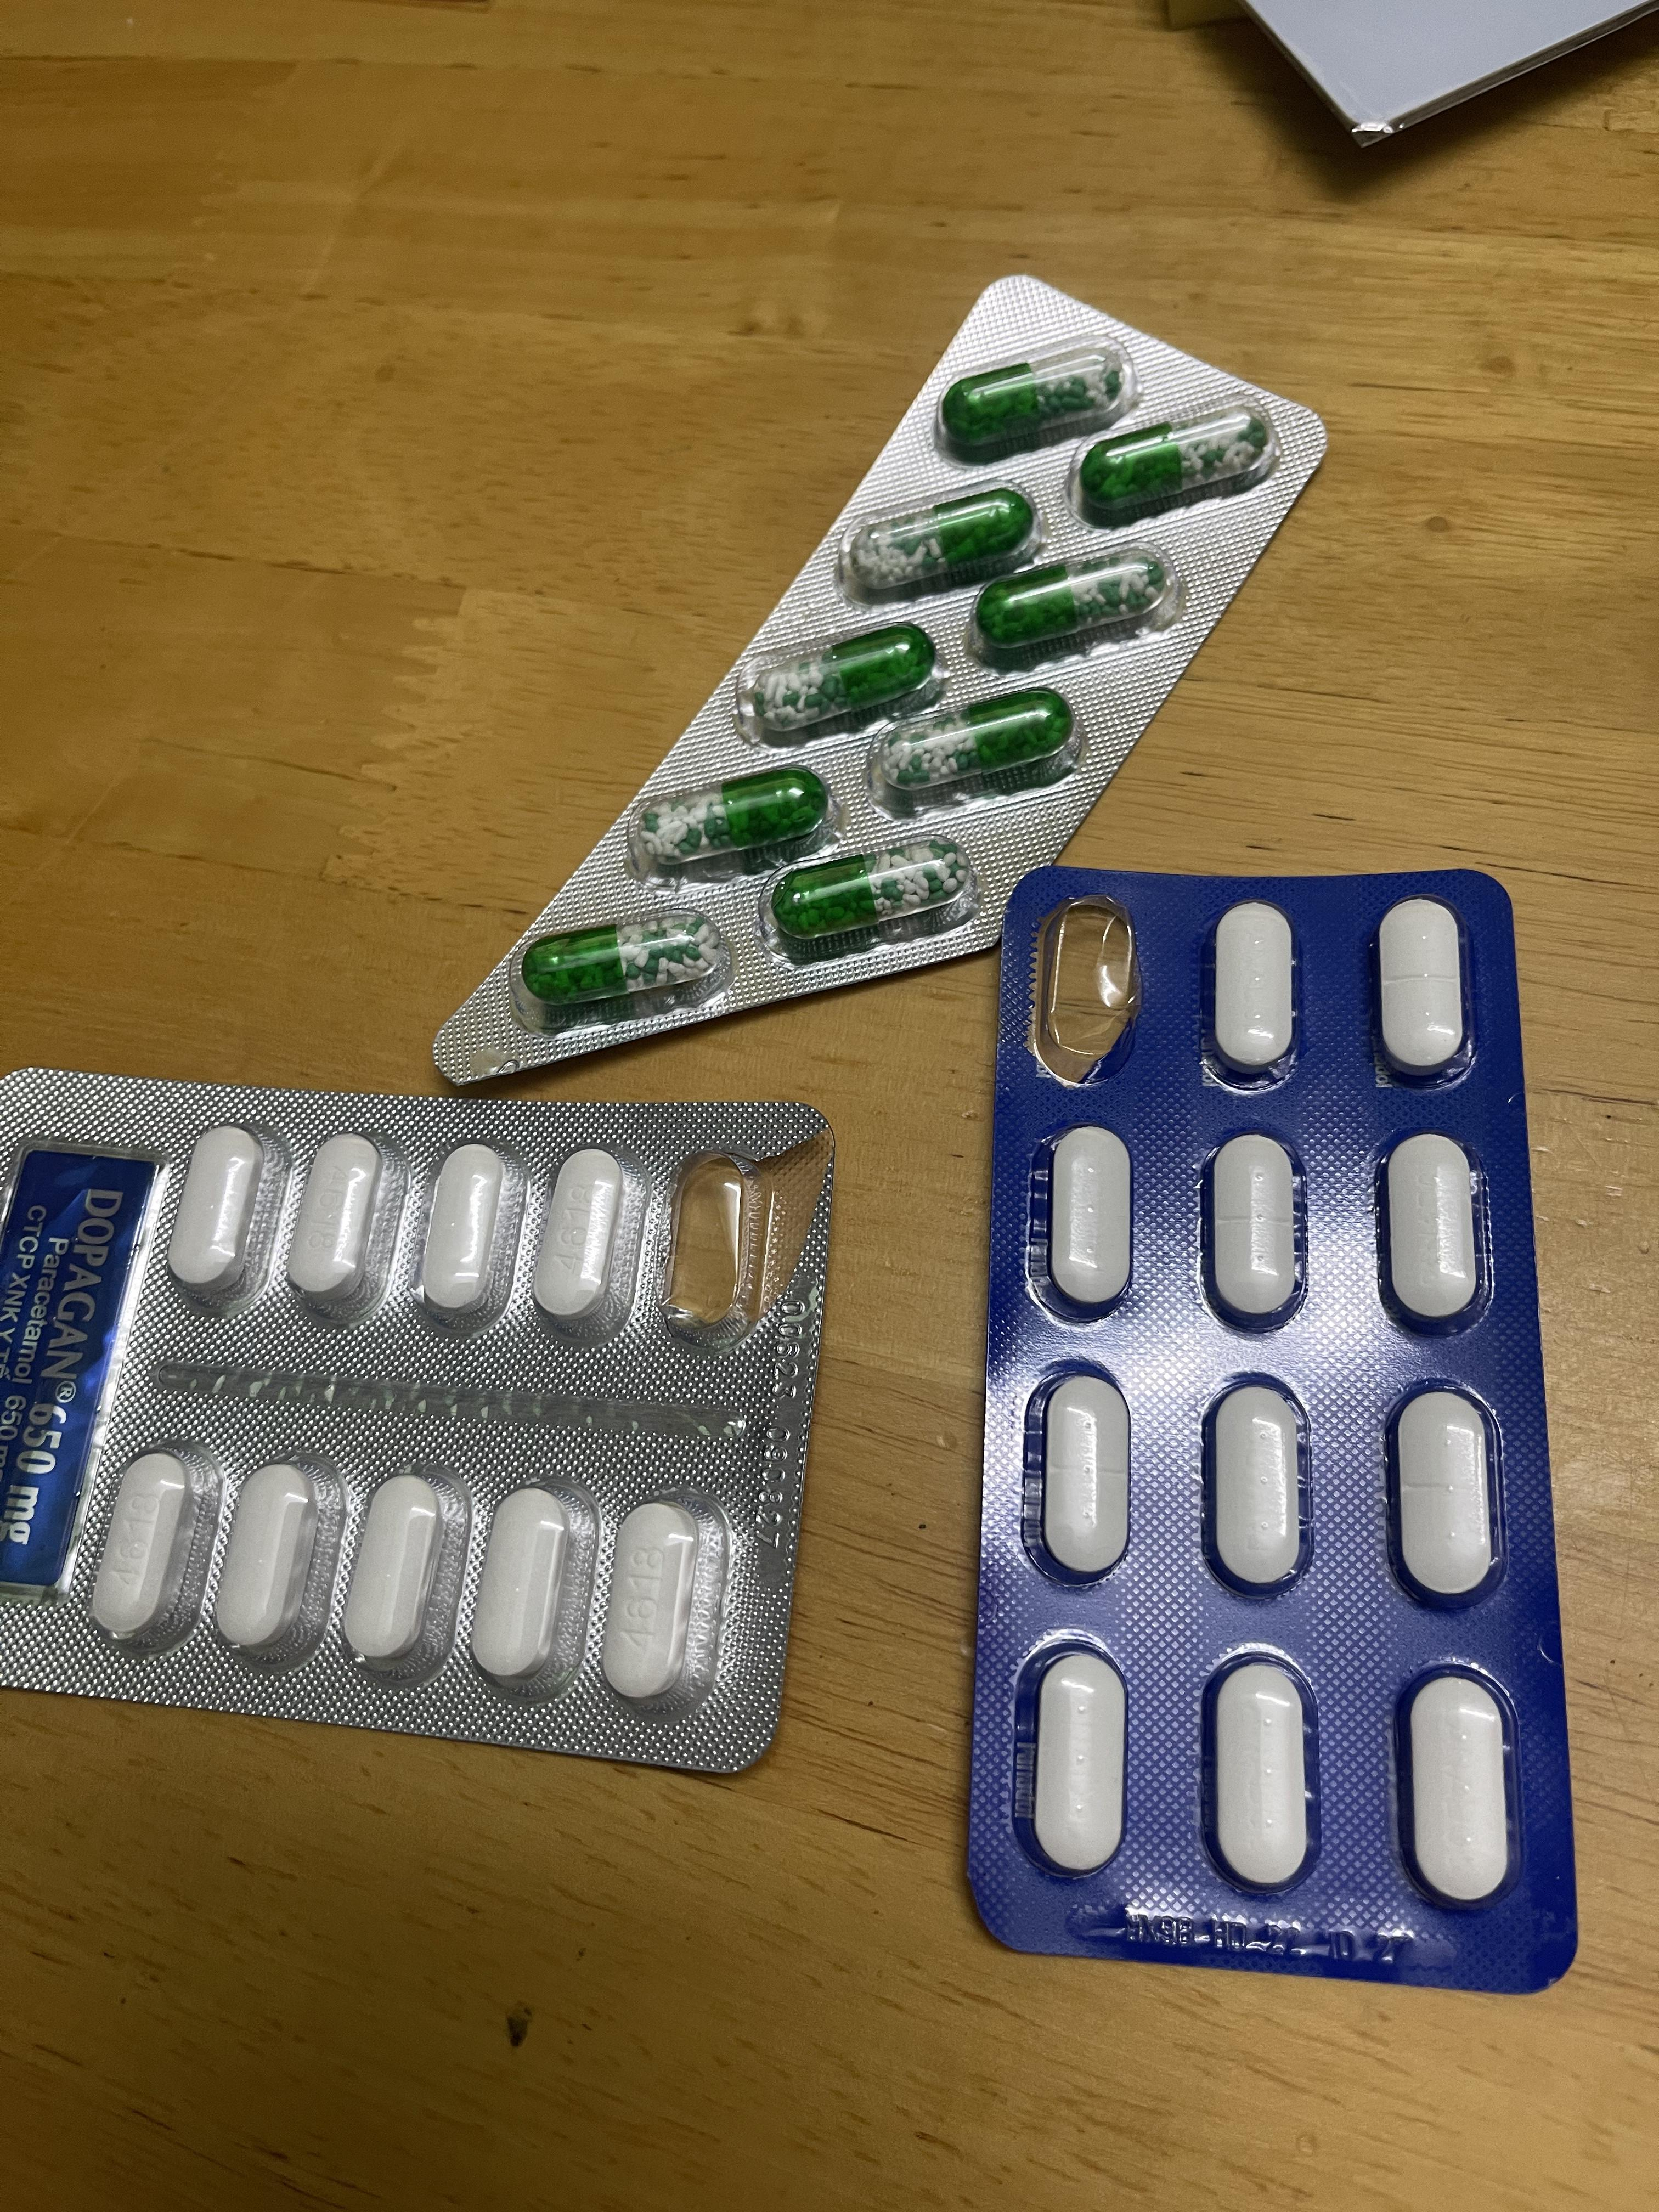Paracetamol_350mg: (1405, 1674, 1514, 1911), (1211, 1658, 1314, 1892), (1030, 1646, 1127, 1879), (1396, 1390, 1499, 1604), (1204, 1132, 1304, 1329), (1215, 1383, 1304, 1594), (1385, 1136, 1481, 1327), (1044, 1369, 1127, 1581), (1377, 897, 1469, 1082), (1049, 1127, 1133, 1310), (1213, 902, 1298, 1076)
Paracetamol_500mg: (592, 1494, 721, 1712), (462, 1480, 587, 1696), (336, 1470, 460, 1684), (207, 1458, 333, 1665), (87, 1449, 206, 1649), (406, 1137, 523, 1331), (526, 1144, 640, 1338), (281, 1130, 394, 1320), (166, 1123, 272, 1305)
Paracetamol_650mg: (1084, 413, 1270, 512), (777, 846, 965, 942), (755, 629, 931, 730), (889, 695, 1066, 794), (941, 352, 1121, 449), (854, 493, 1028, 589), (641, 772, 824, 862), (981, 557, 1161, 648), (528, 920, 716, 1003)
